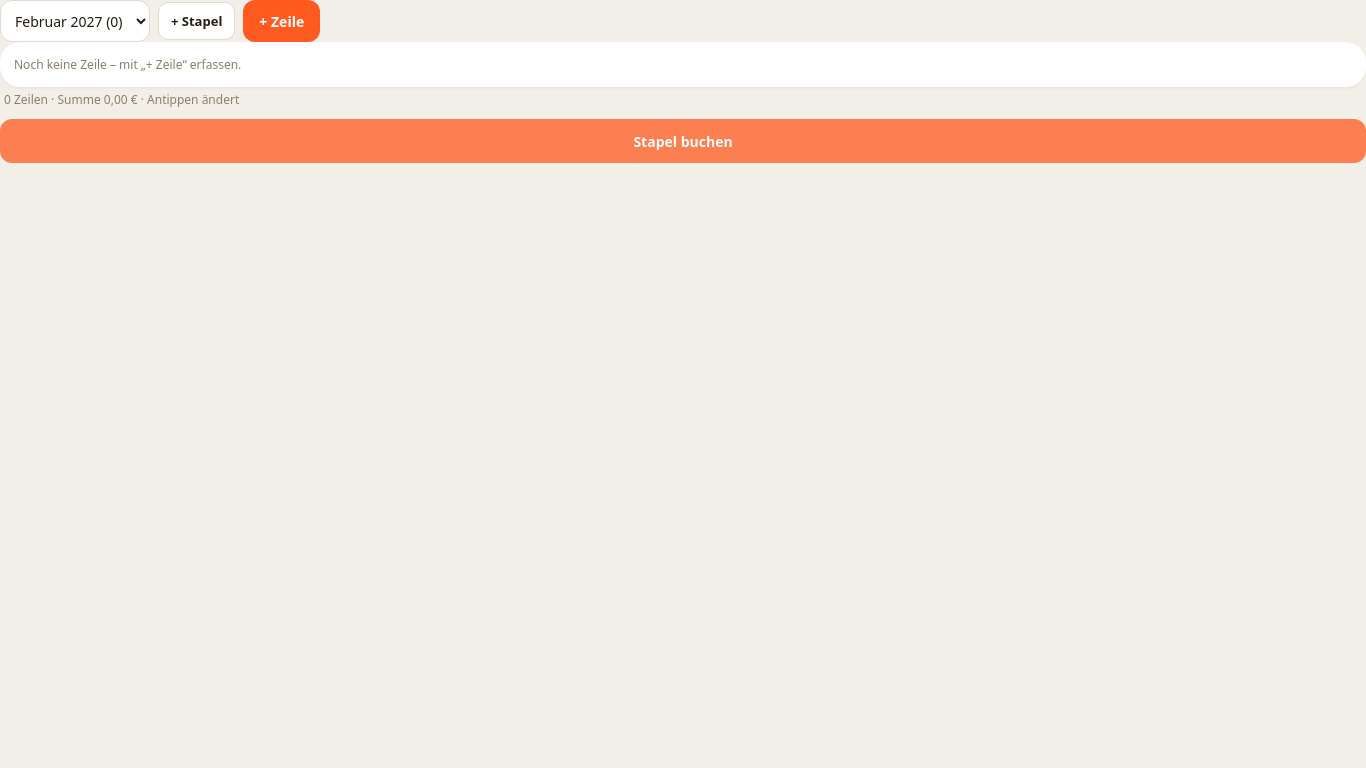
Test case: Stapel am Handy › Zeile erfassen mit Vorschau, „+ Nächste“ lässt Datum und Steuer stehen und zählt den Beleg weiter
Click the button "+ Zeile" at [282, 21], box [243, 0, 320, 42]
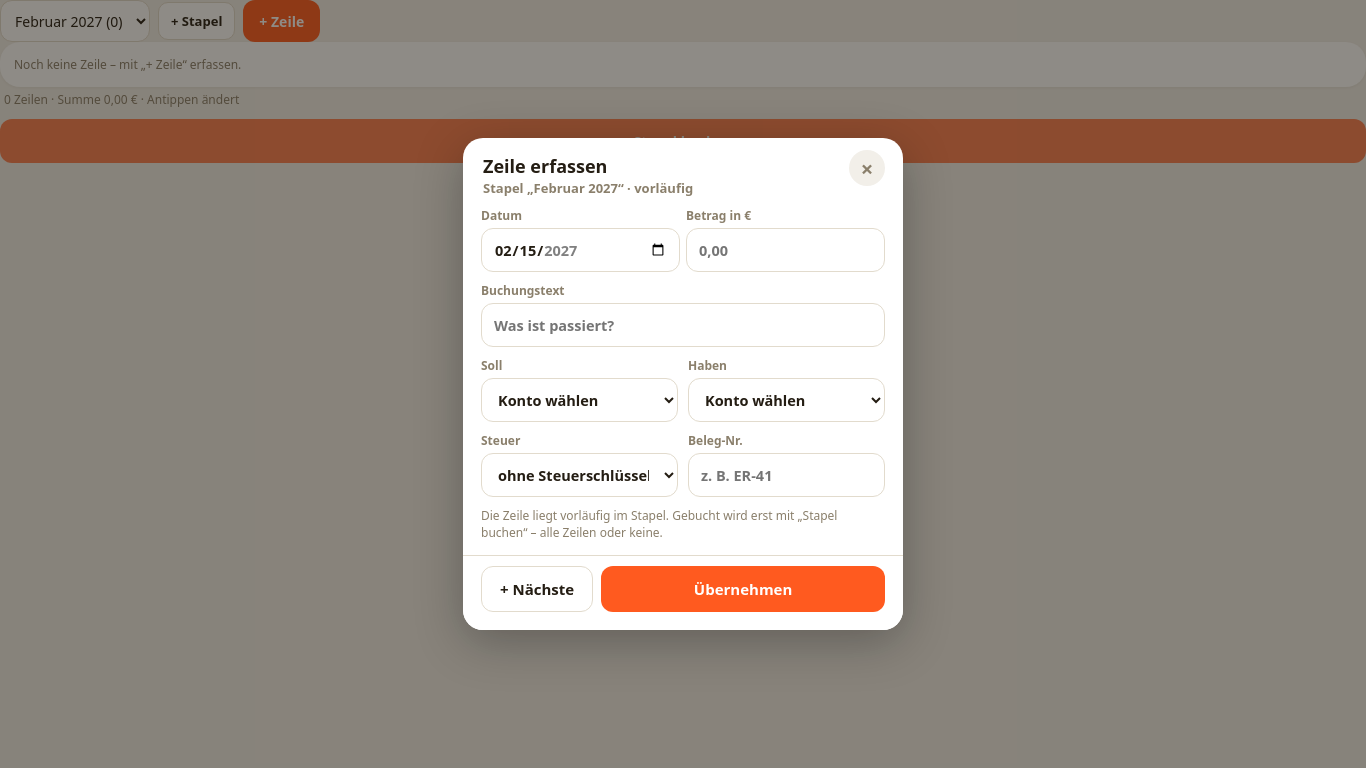
Now the date field labelled "Datum" holds "2027-02-15", box [481, 228, 680, 272]
Type "78,40" into the field labelled "Betrag" at [786, 250], box [686, 228, 885, 272]
Type "Tanken" into the field labelled "Buchungstext" at [683, 325], box [481, 303, 885, 347]
Select "4530 Laufende Kfz-Kosten" in the dropdown named "Soll-Konto" at [580, 400], box [481, 378, 678, 422]
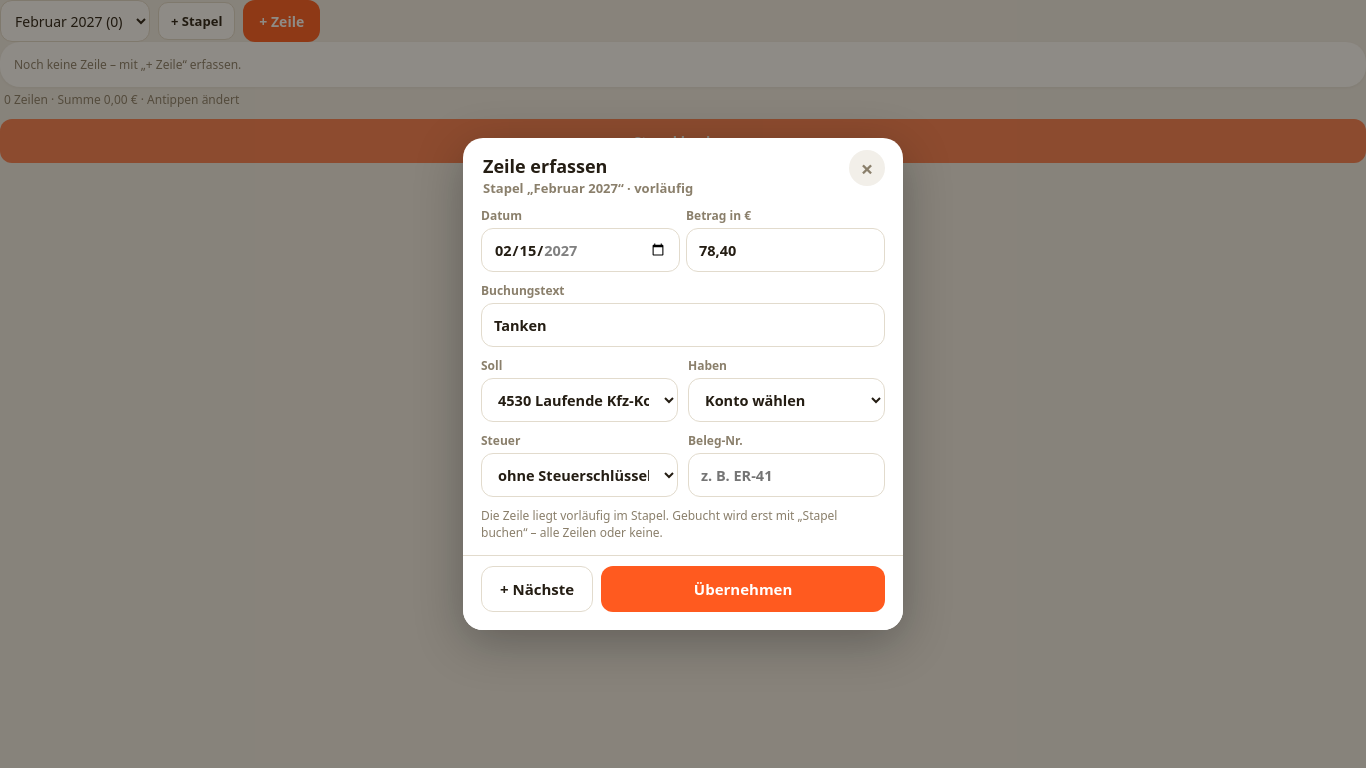
Select "1200 Bank" in the dropdown named "Haben-Konto" at [786, 400], box [688, 378, 885, 422]
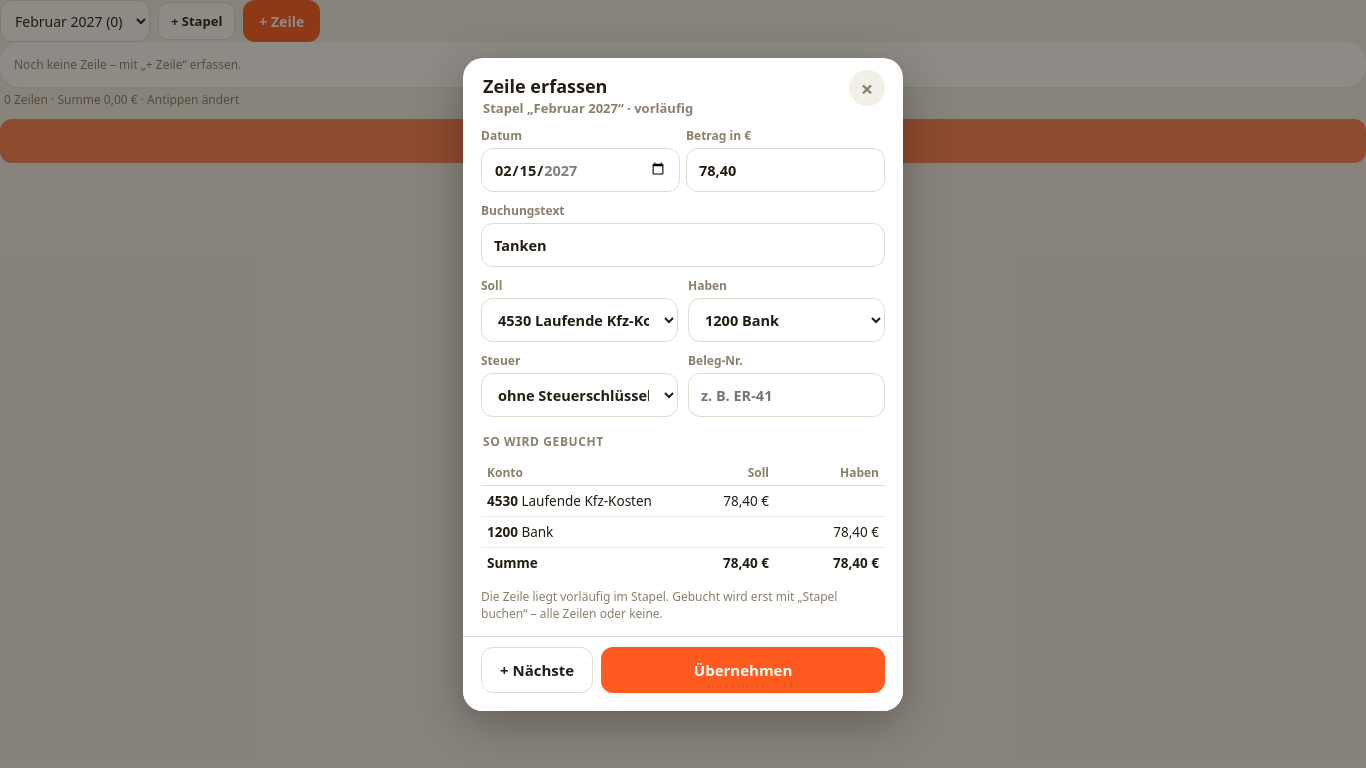
Select "Vorsteuer 19 %" in the dropdown labelled "Steuer" at [580, 394], box [481, 372, 678, 416]
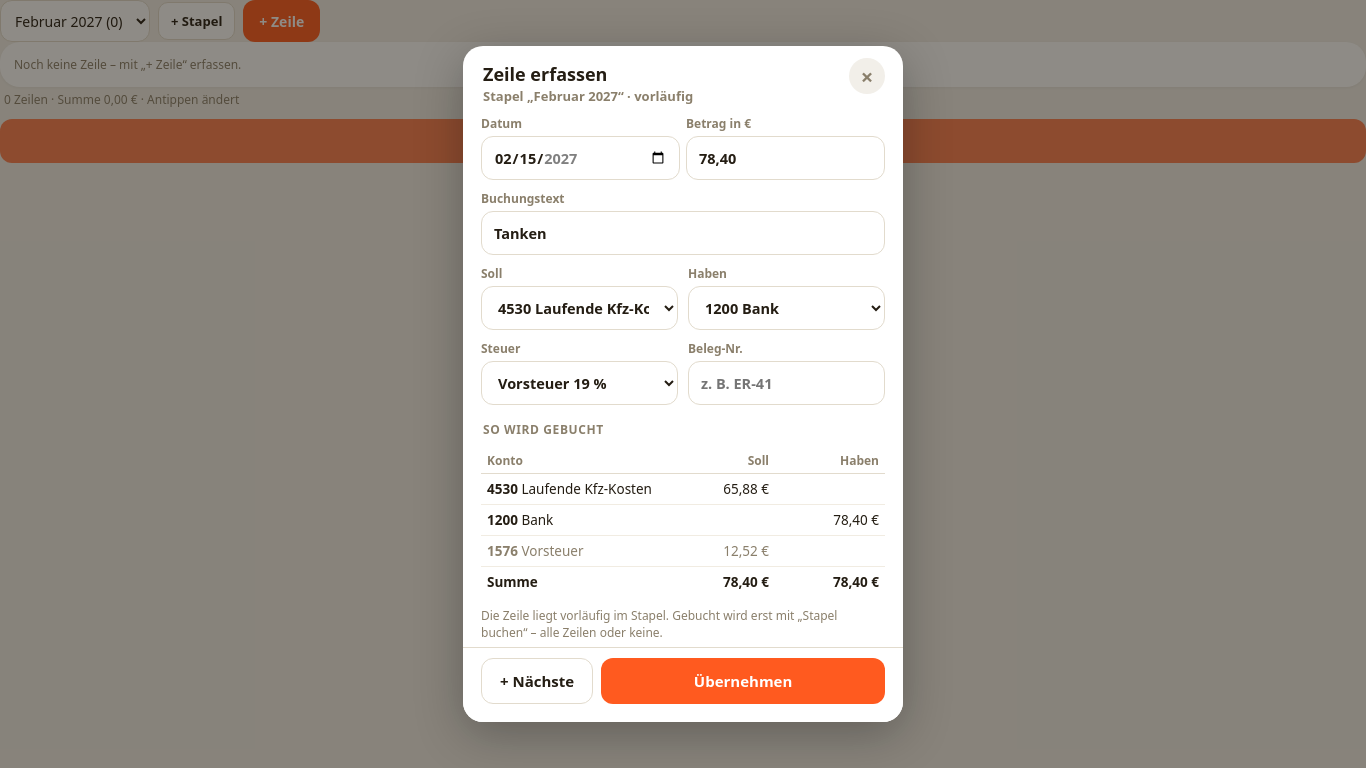
Type "ER-0041" into the field labelled "Beleg" at [786, 383], box [688, 361, 885, 405]
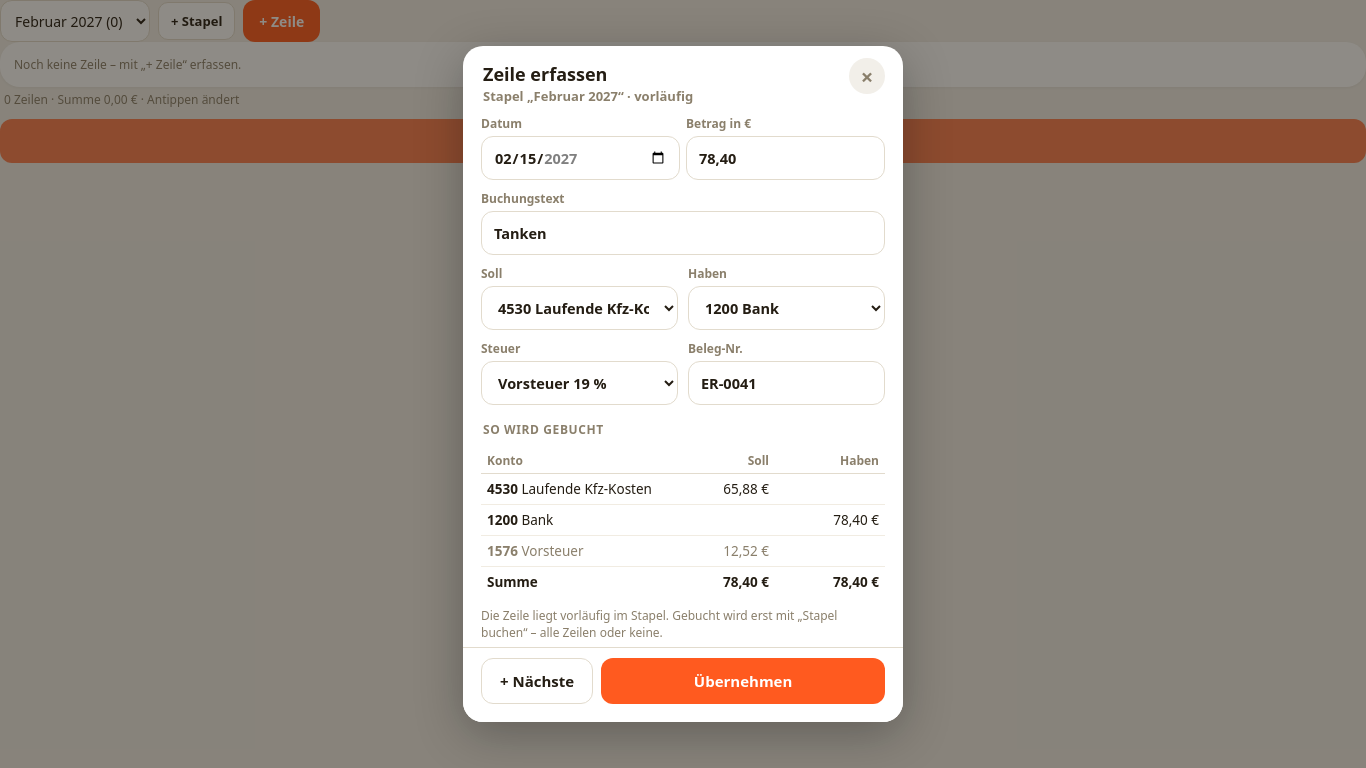
Now the text "SO WIRD GEBUCHT" is shown, box [483, 421, 604, 438]
Click the button "+ Nächste" at [537, 681], box [481, 658, 593, 704]
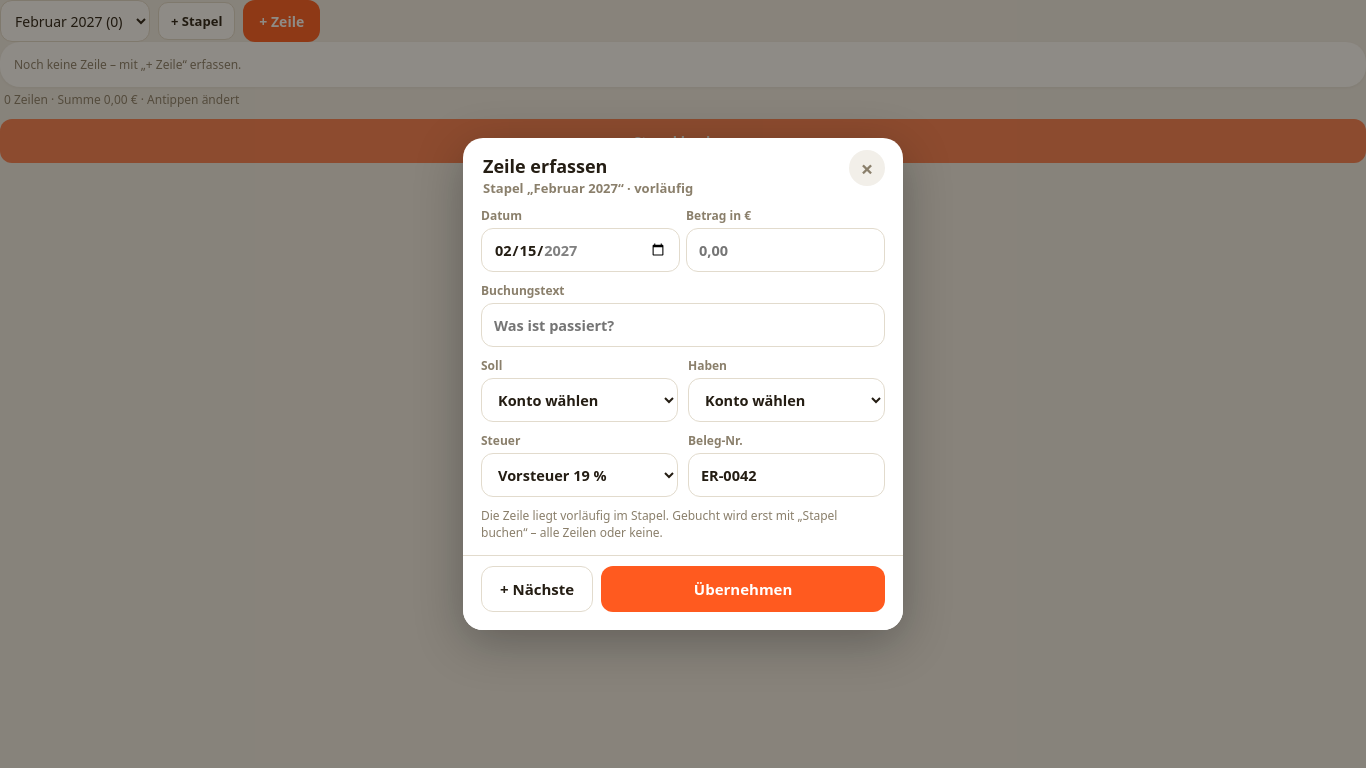
Now the field labelled "Beleg" holds "ER-0042", box [688, 453, 885, 497]
Now the field labelled "Buchungstext" is empty, box [481, 303, 885, 347]
